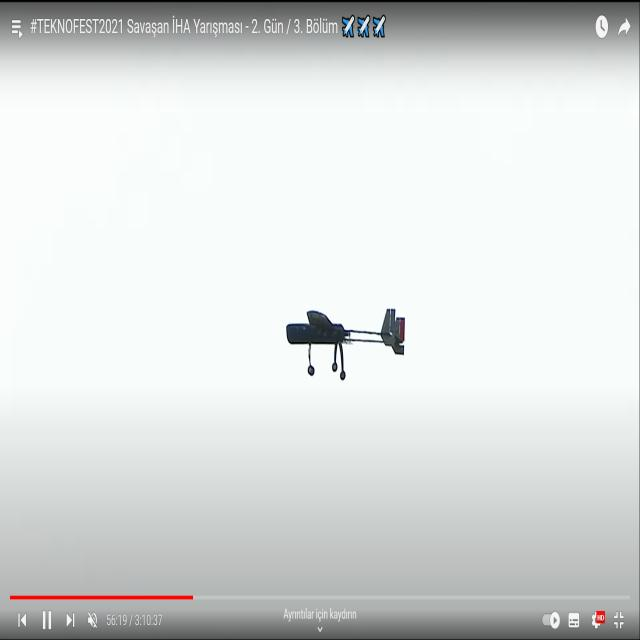iha: (317, 341, 375, 346)
